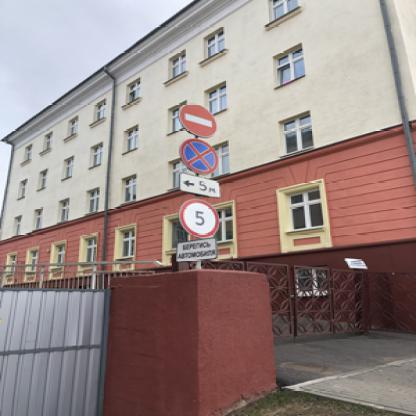speedlimit: (178, 198, 218, 237)
